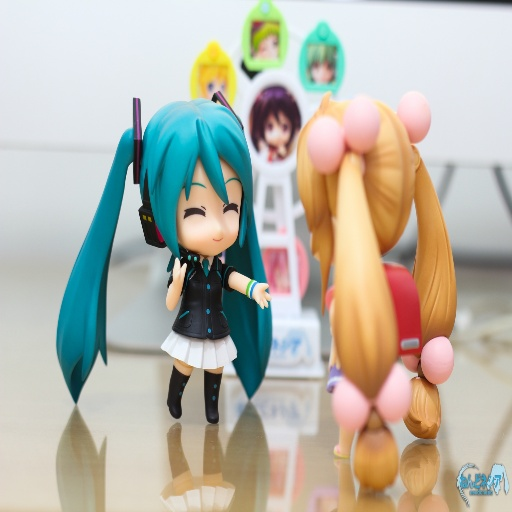hand: (251, 281, 272, 312), (169, 254, 188, 283)
